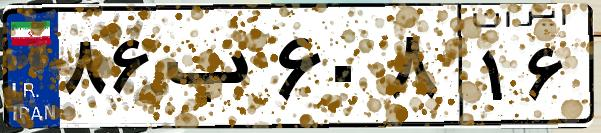0: (330, 28, 385, 110)
1: (475, 38, 525, 113)
6: (270, 28, 330, 110), (525, 38, 570, 115), (110, 28, 158, 98)
8: (385, 28, 445, 110), (57, 26, 110, 100)
ب: (158, 20, 270, 120)
